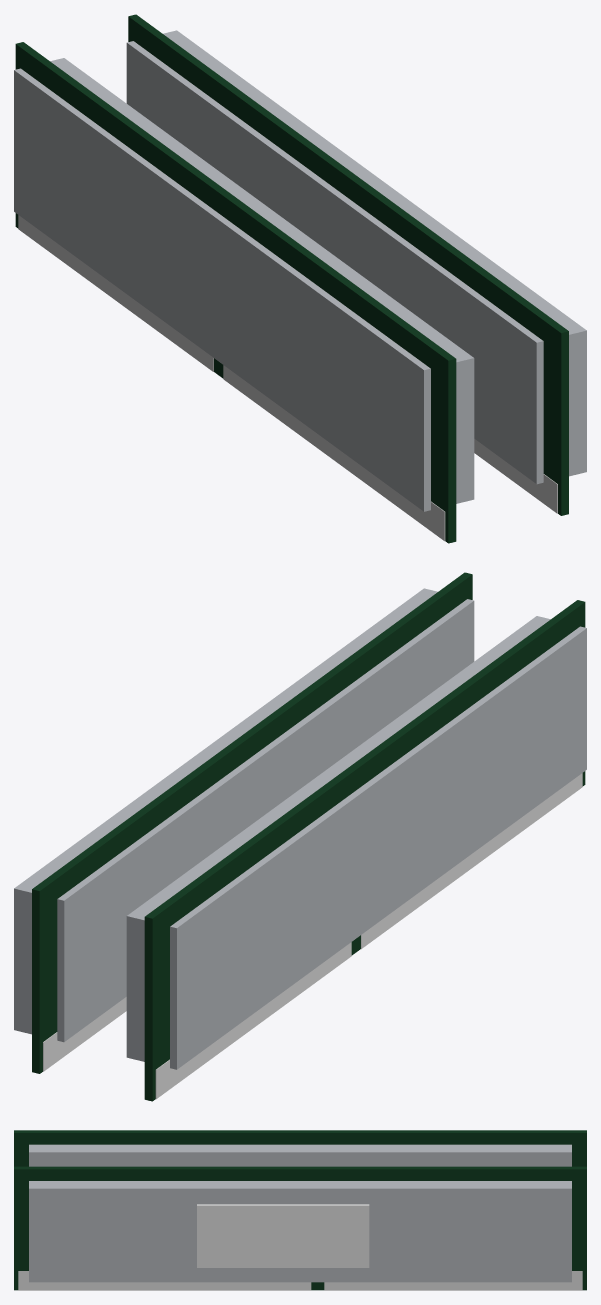
File: hw_ram_ddr2_16gb.glb
The picture shows the model from 3 angles, top to bottom: view 1: azimuth 30°, elevation 25°; view 2: azimuth 150°, elevation 25°; view 3: azimuth 270°, elevation 25°; orthographic projection. The views are drawn at different scales.
Parts seen in each view (by area): view 1: Stick_1, Body; view 2: Stick_1, Body; view 3: Body, Stick_1.
Part boxes in pixels (x1=…): Stick_1: x1=14, y1=42, x2=474, y2=543; Body: x1=126, y1=14, x2=586, y2=515; Stick_1: x1=126, y1=600, x2=586, y2=1101; Body: x1=14, y1=572, x2=474, y2=1073; Body: x1=14, y1=1166, x2=586, y2=1290; Stick_1: x1=14, y1=1130, x2=586, y2=1166.
Size of the model in its own units: 0.0297 by 0.031 by 0.133.
